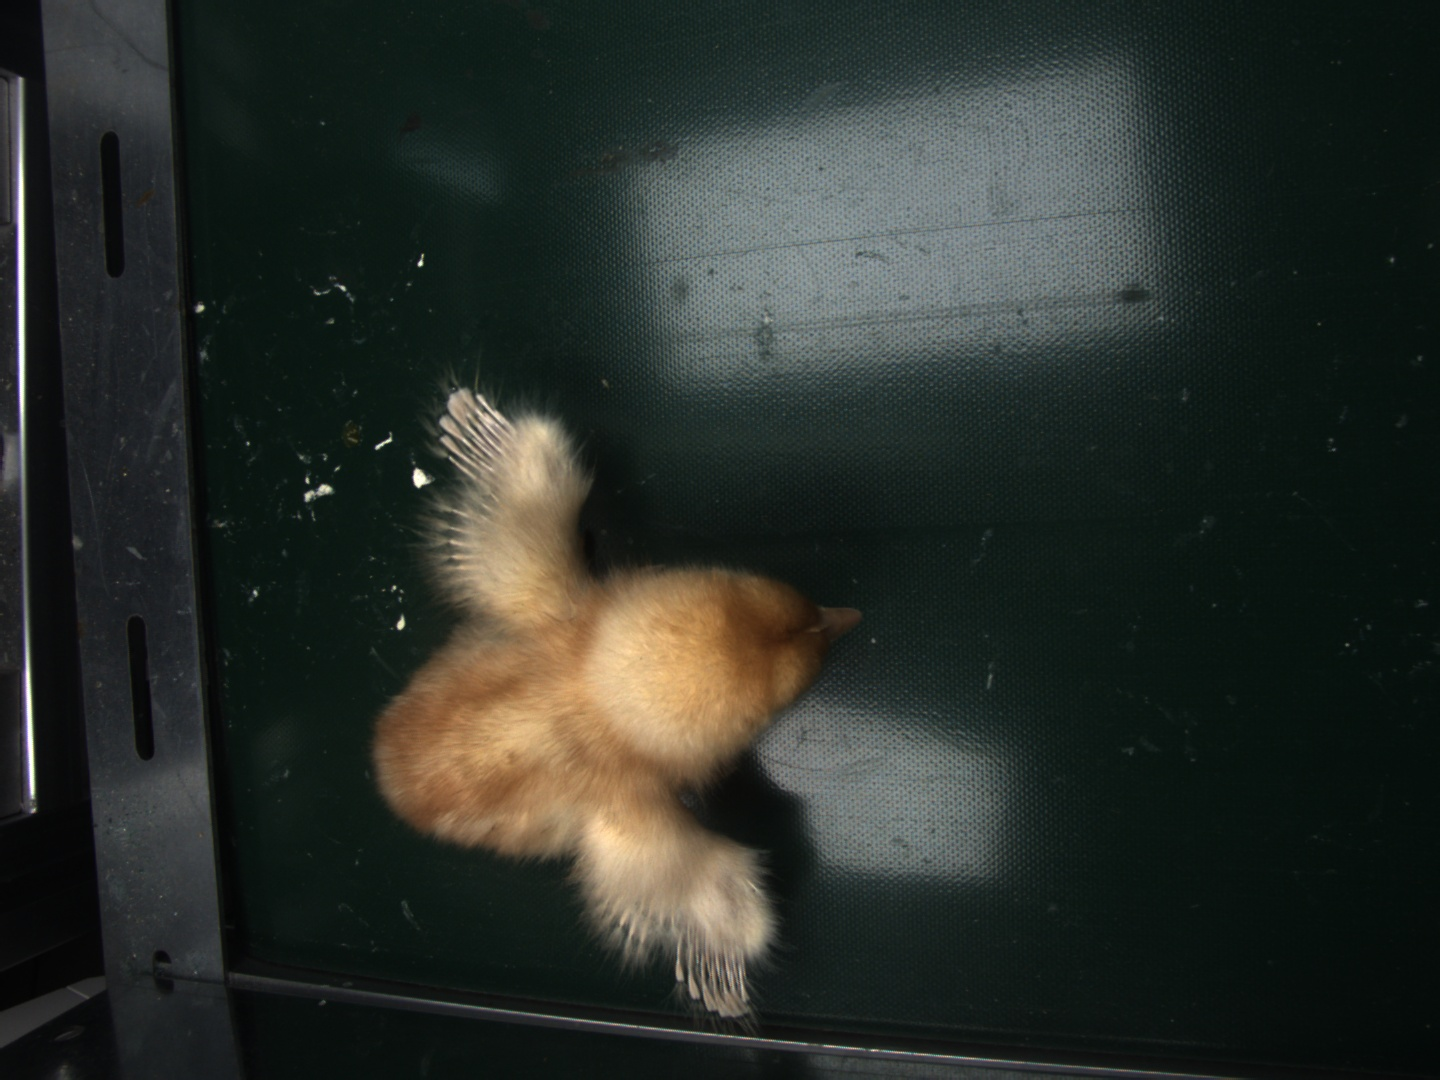female: (438, 387, 515, 483)
